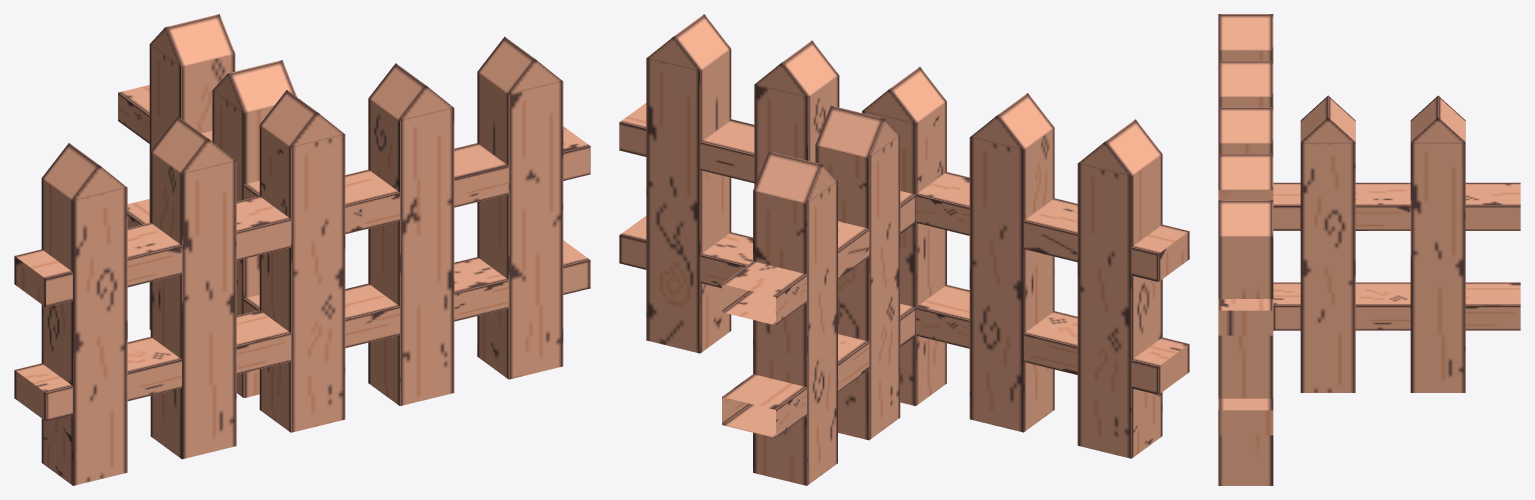
Rendered from Cerca En T.fbx.
3 renders of one model, left to right at view 1: azimuth 30°, elevation 25°; view 2: azimuth 150°, elevation 25°; view 3: azimuth 270°, elevation 25°, orthographic. The views are drawn at different scales.
Parts seen in each view (by area): view 1: Cerca En T; view 2: Cerca En T; view 3: Cerca En T.
Part boxes in pixels (left/top/right/bottom): Cerca En T: left=14, top=14, right=590, bottom=485; Cerca En T: left=619, top=14, right=1189, bottom=485; Cerca En T: left=1218, top=14, right=1520, bottom=485.
Size of the model in its own units: 1000 by 550 by 550.
Materials: 1 (1 with a texture image).
